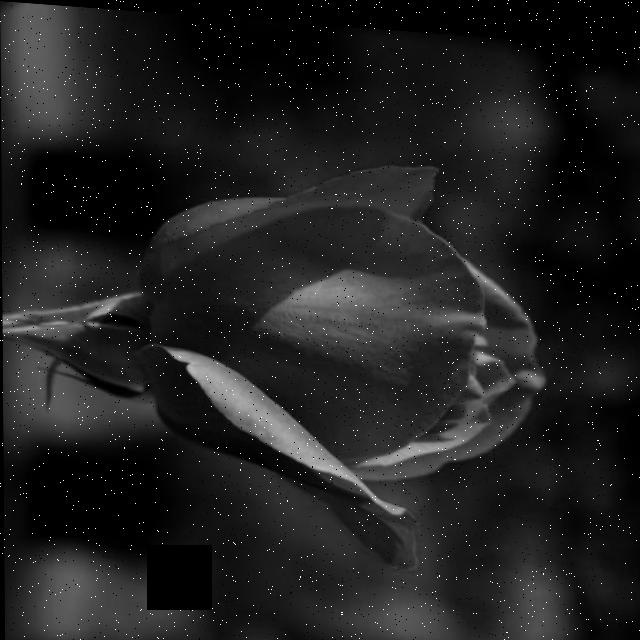rose: (54, 98, 559, 581)
